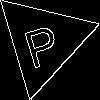P: (18, 16, 63, 69)
